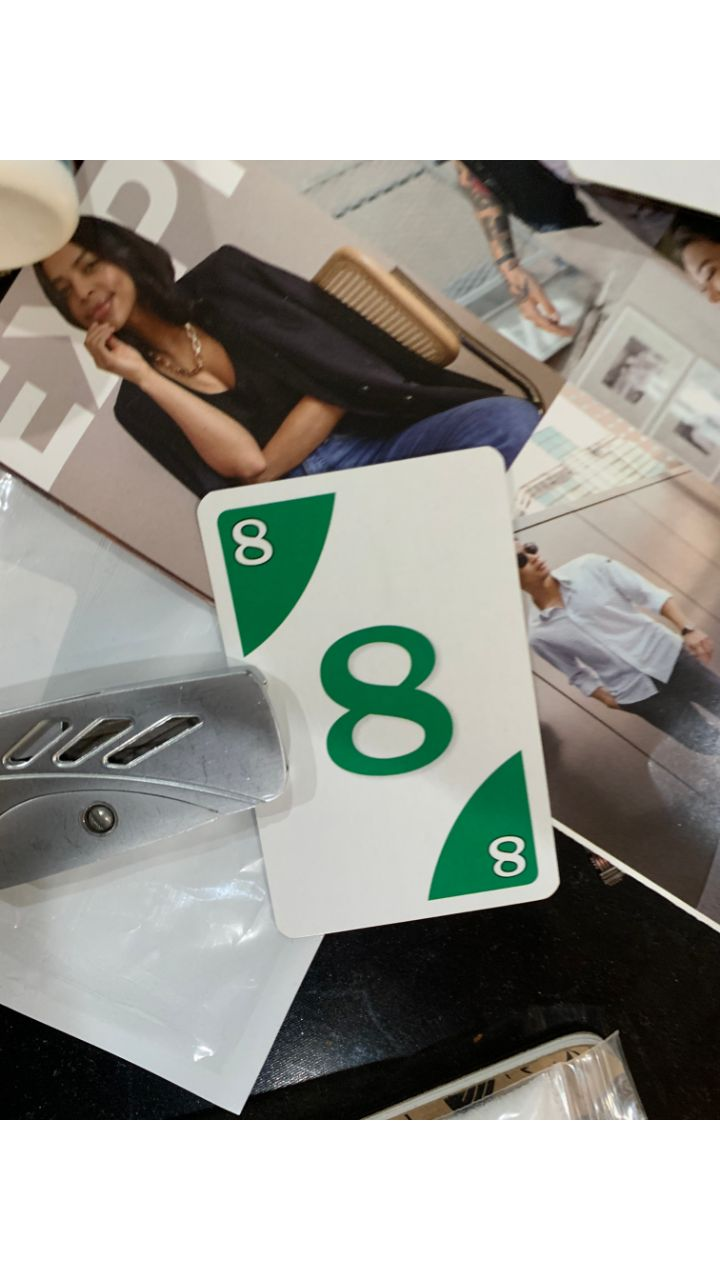eight: (200, 444, 564, 941)
